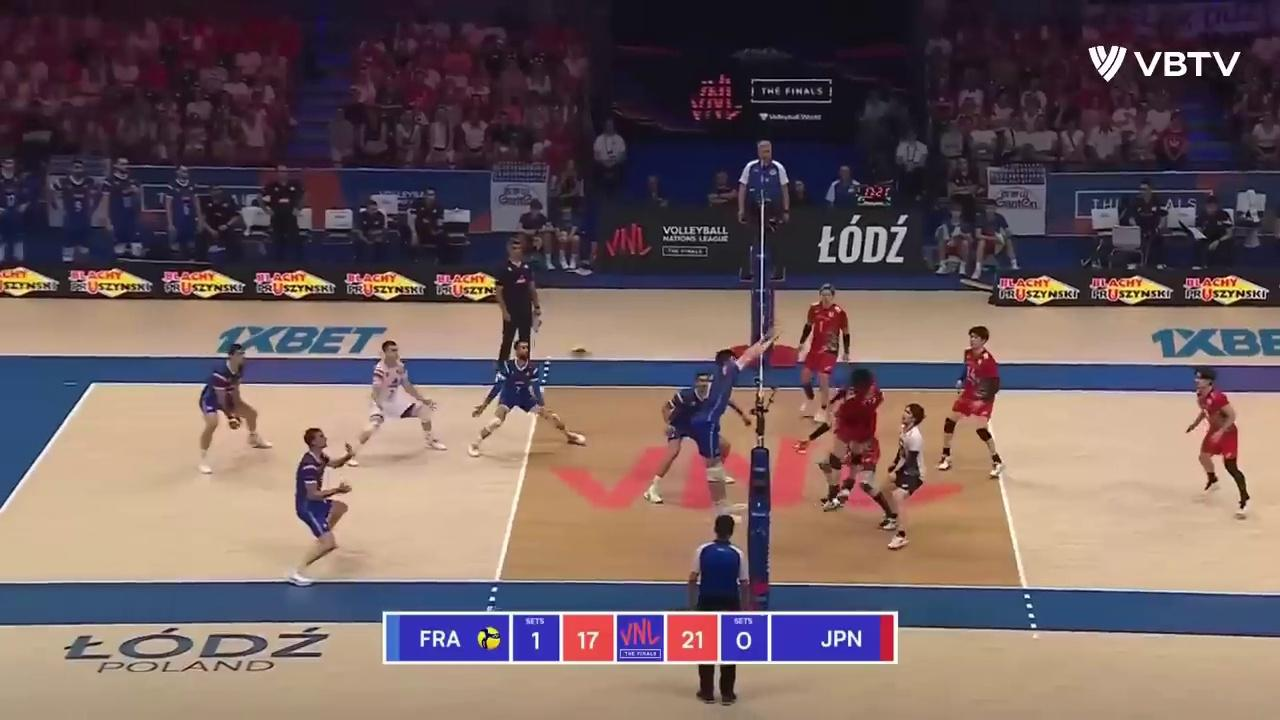ball: (568, 344, 592, 357)
